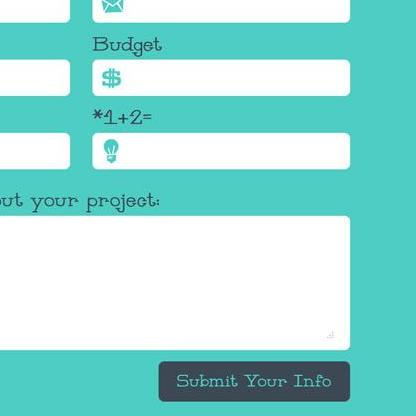button: (158, 361, 352, 402)
field: (92, 129, 350, 171), (90, 57, 352, 97)
